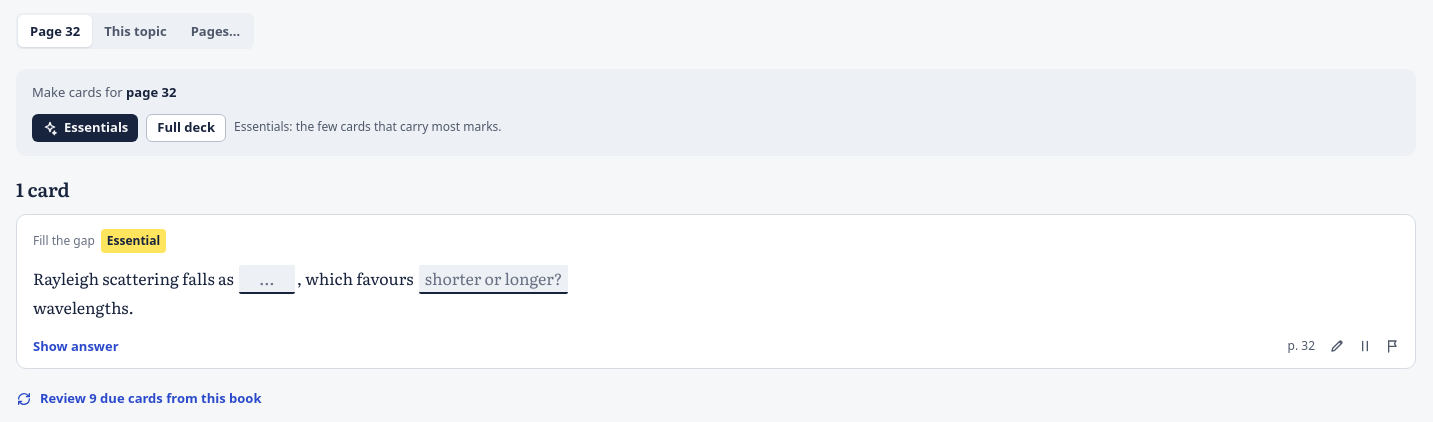
Scenario: CardsTab › suspends a card and can restore it
This screenshot has width=1433, height=422.
Click the button named "Suspend card" at x=1365, y=346, box [1351, 332, 1379, 360]
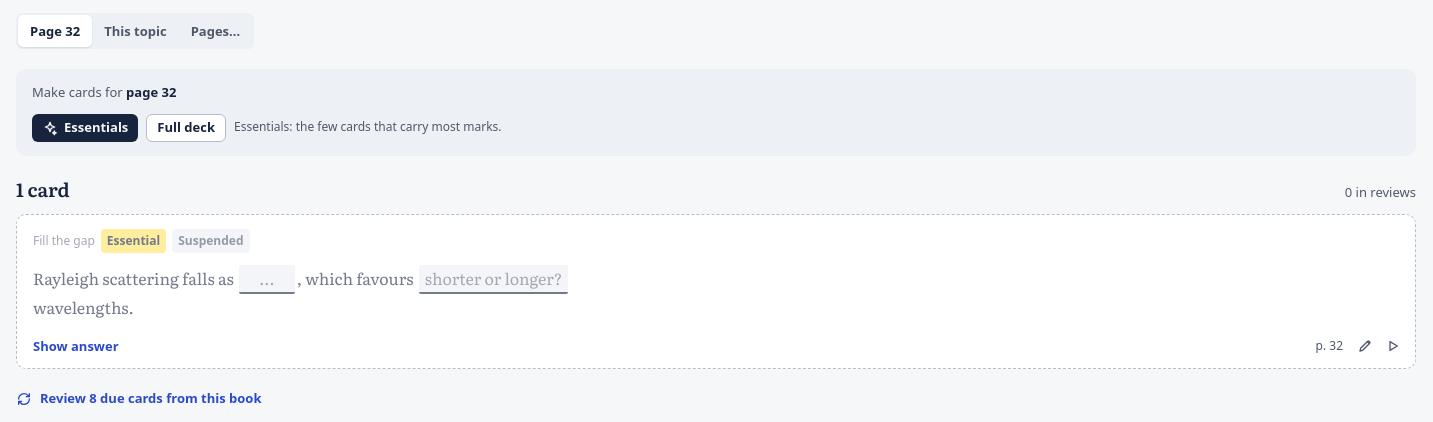
Result: the text "Suspended" is shown at [172, 229, 250, 253]
Click the button named "Restore card" at x=1393, y=346, box [1379, 332, 1407, 360]
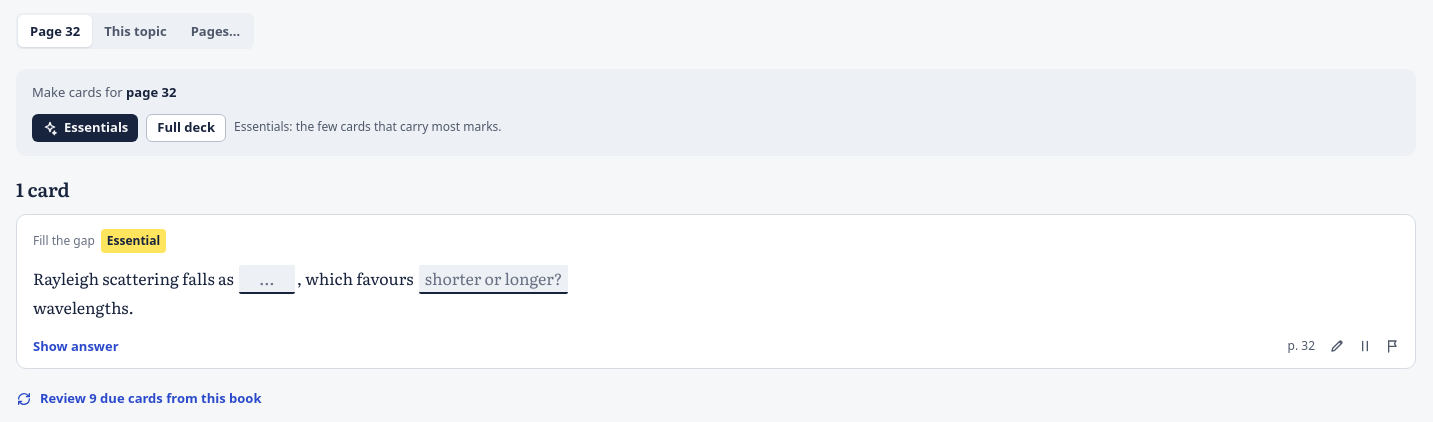
Result: the text "Suspended" is gone
